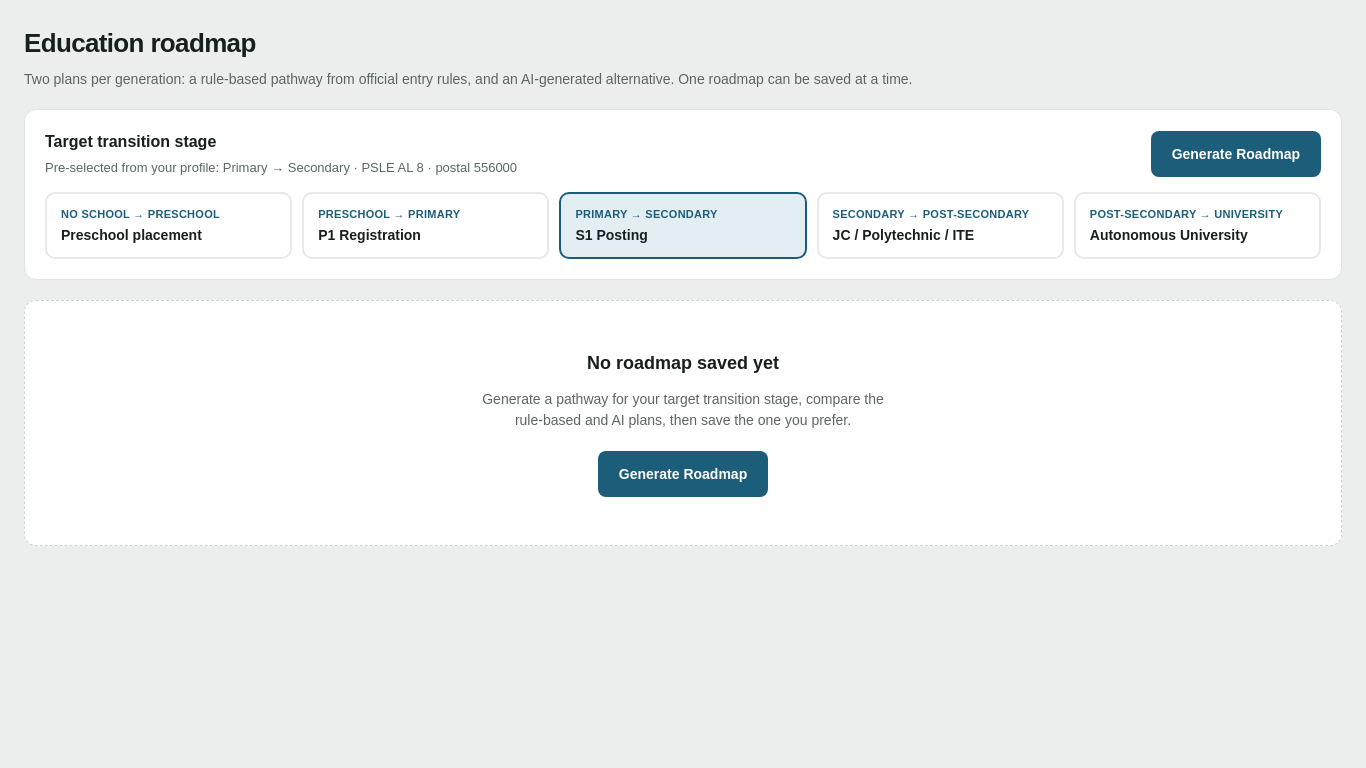
Scenario: RoadmapView (UC-3.1 to UC-3.4) › generating (REQ-3.1, REQ-3.12) › says so when the chosen stage has no institutions yet
The image size is (1366, 768).
Click the button "Post-Secondary → University Autonomous University" at coordinates (1197, 225), box 1074,192 -> 1321,259
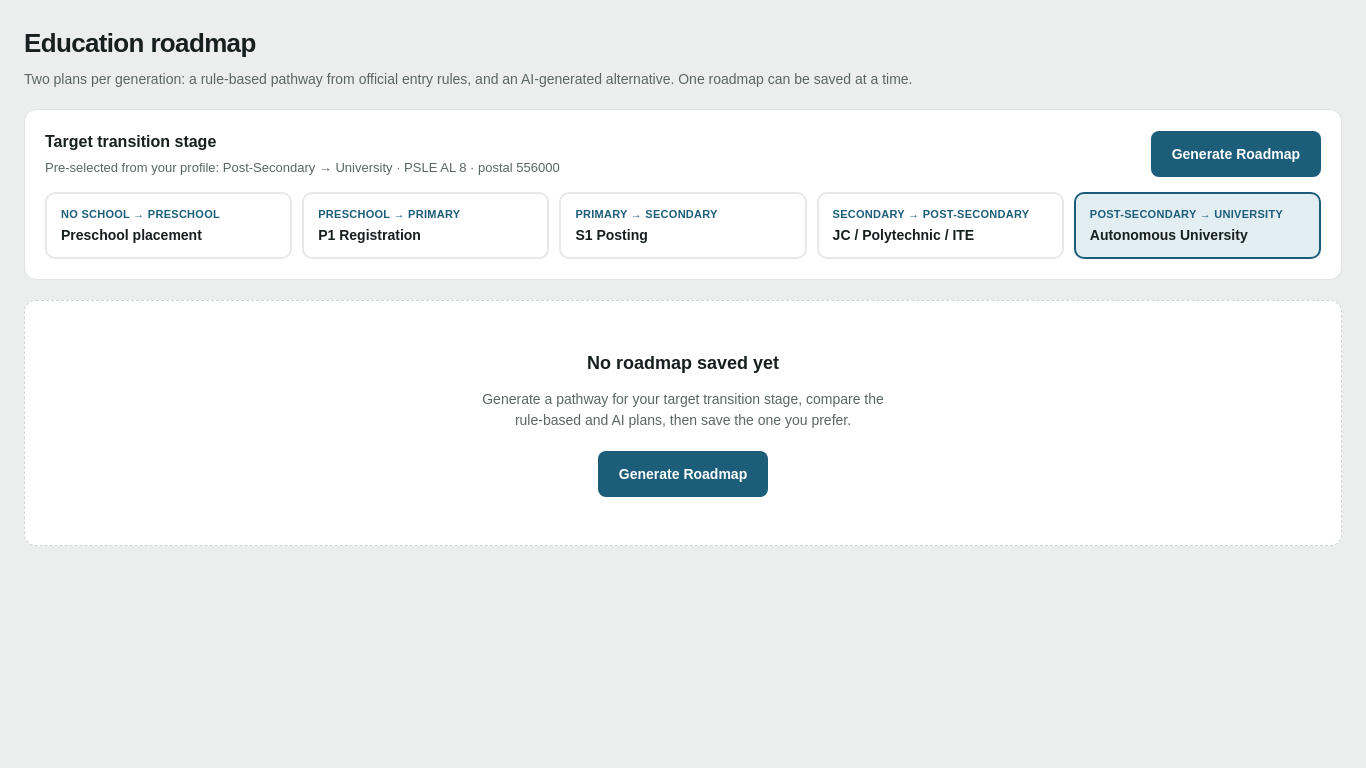
Click the 1st button "Generate Roadmap" at coordinates (1236, 154), box 1151,131 -> 1321,177
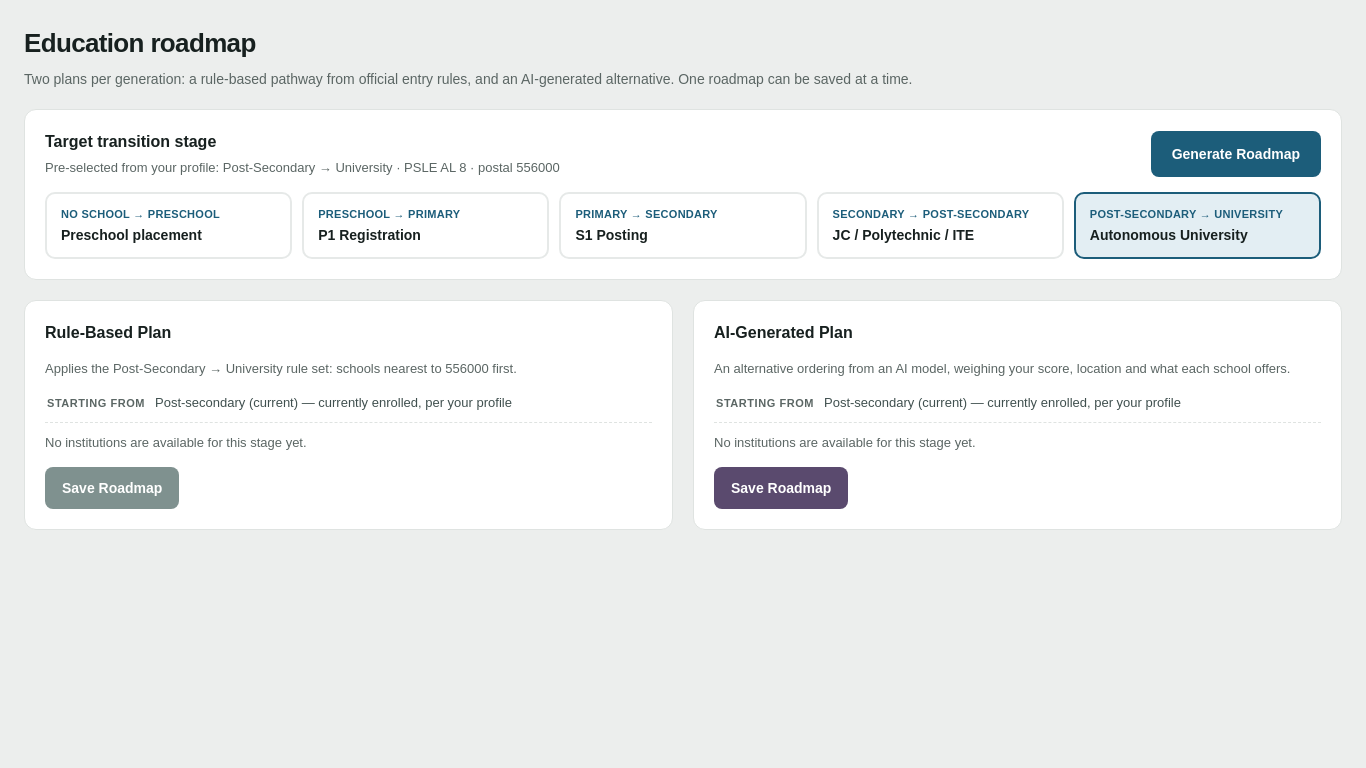
Expected: the element that starts with "Rule-Based Plan" shows "No institutions are available for this stage yet.", 45,435 -> 307,450
Expected: the button "Save Roadmap" below "Rule-Based Plan" is disabled, 45,467 -> 179,509
